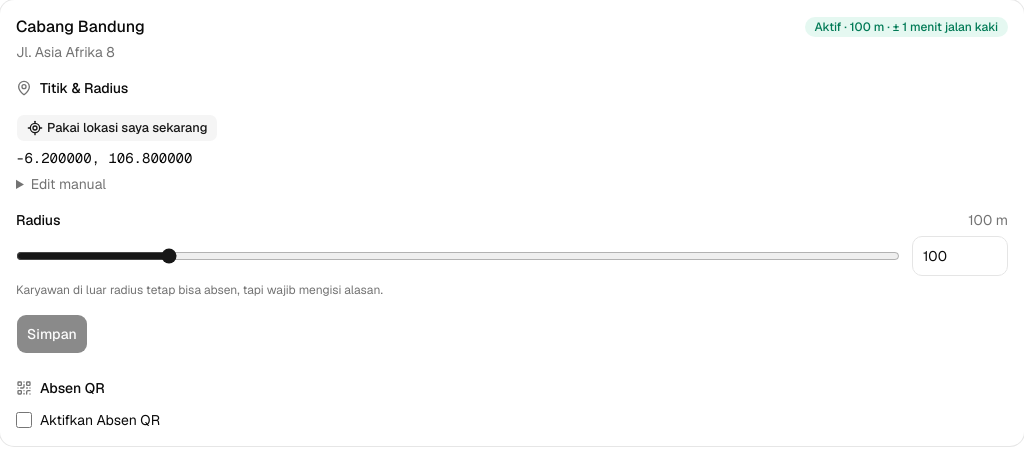
LocationForm › keeps Save disabled until the radius changes
Expected: the button "Simpan" is disabled, [16, 314, 88, 354]
Replace the text in the number field named "radius dalam meter" with "150": (960, 256) [912, 236, 1008, 276]
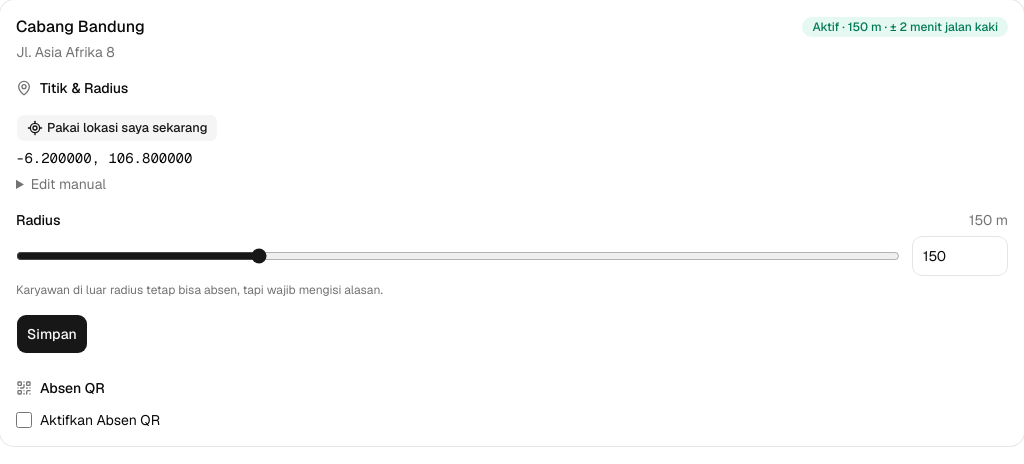
Expected: the button "Simpan" is enabled, [16, 314, 88, 354]
